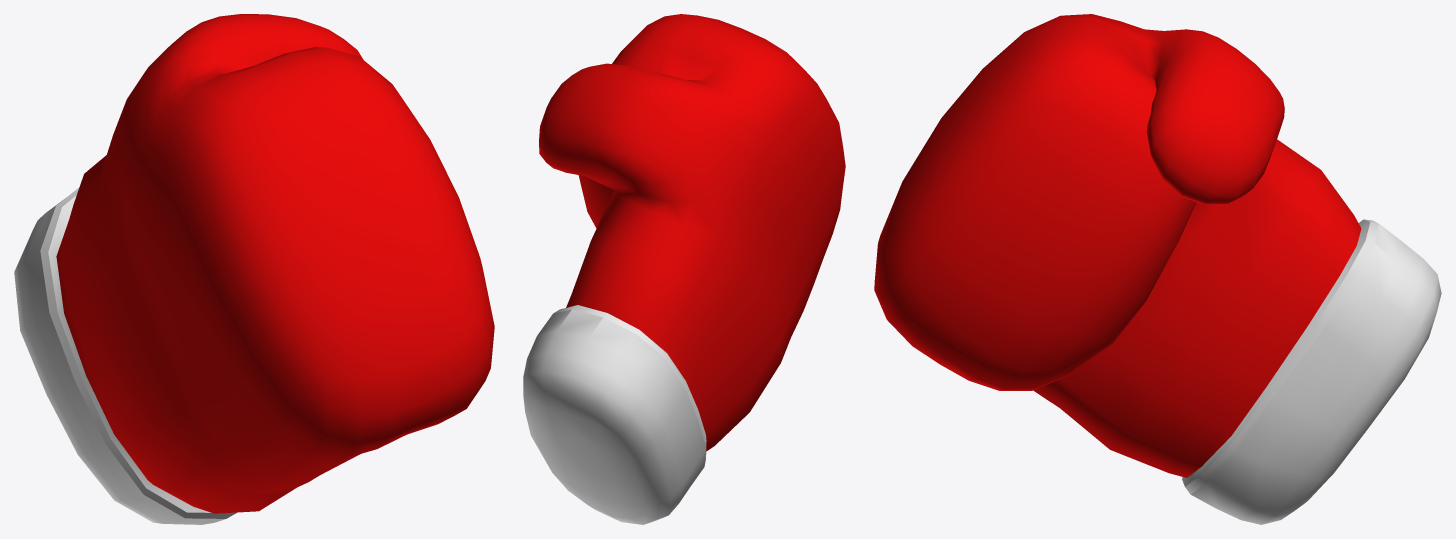
Rendered from right.fbx.
3 views of the same model, side by side, from view 1: azimuth 30°, elevation 25°; view 2: azimuth 150°, elevation 25°; view 3: azimuth 270°, elevation 25° (orthographic). The views are drawn at different scales.
Parts seen in each view (by area): view 1: polySurface1; view 2: polySurface1; view 3: polySurface1.
Part boxes in pixels (<box>): polySurface1: <box>14,14,494,524</box>; polySurface1: <box>523,14,845,524</box>; polySurface1: <box>874,14,1441,524</box>.
Bounding box in the file's own units: 0.7188 × 1.4 × 1.47.
